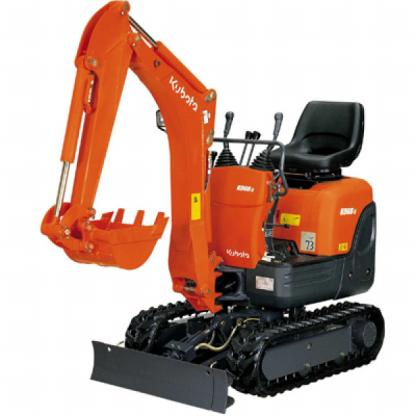excavator: (19, 0, 380, 400)
